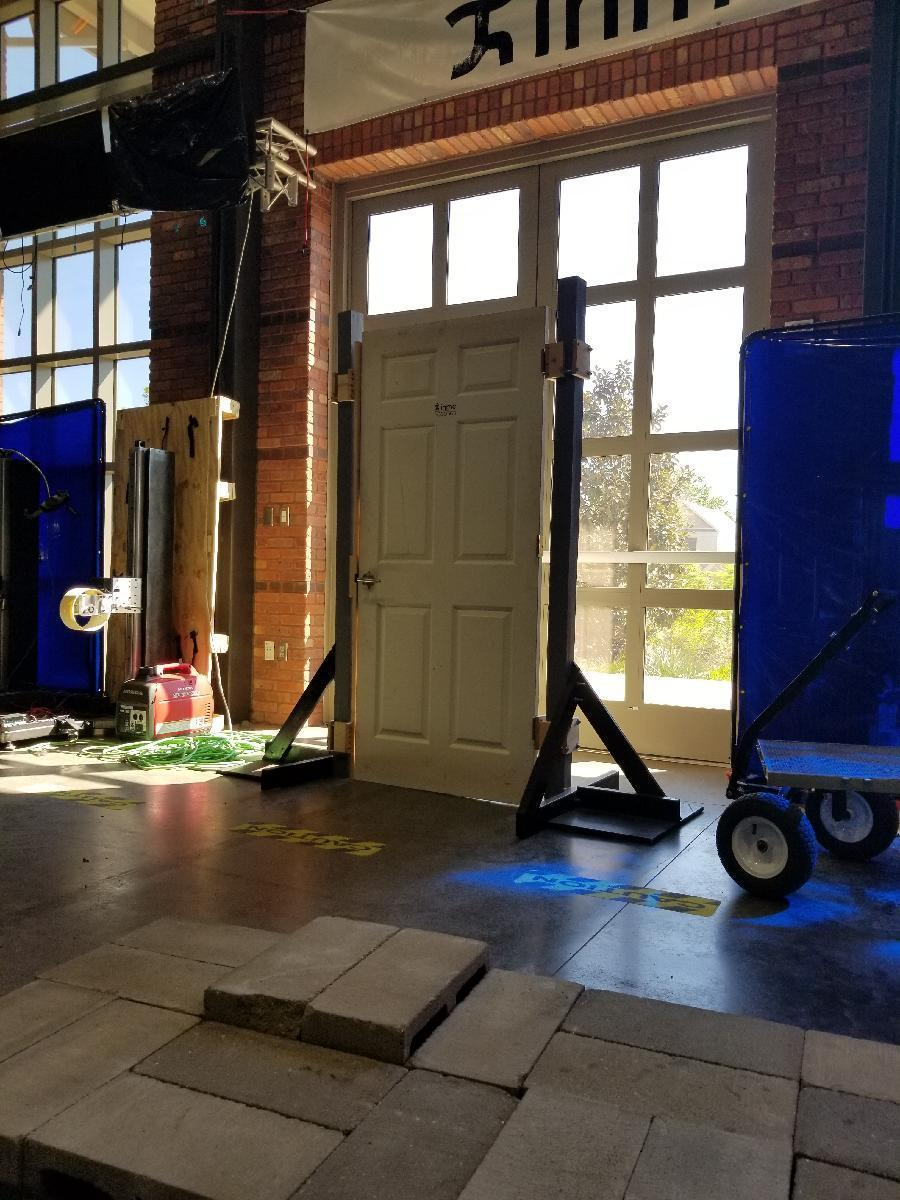door: (363, 308, 542, 805)
handle: (357, 572, 384, 590)
